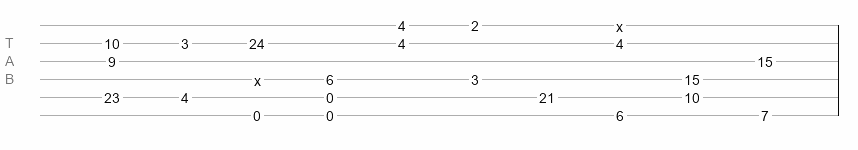0: (253, 108, 261, 118), (326, 90, 334, 100), (326, 108, 334, 118)
10: (104, 36, 120, 46), (684, 90, 700, 100)
15: (684, 72, 700, 82), (757, 54, 773, 64)
2: (471, 18, 479, 28)
21: (539, 90, 555, 100)
23: (104, 90, 120, 100)
24: (249, 36, 265, 46)
3: (181, 36, 189, 46), (471, 72, 479, 82)
4: (181, 90, 189, 100), (398, 18, 406, 28), (398, 36, 406, 46), (616, 36, 624, 46)
6: (326, 72, 334, 82), (616, 108, 624, 118)
7: (761, 108, 769, 118)
9: (108, 54, 116, 64)
x: (254, 73, 261, 81), (616, 19, 623, 27)
